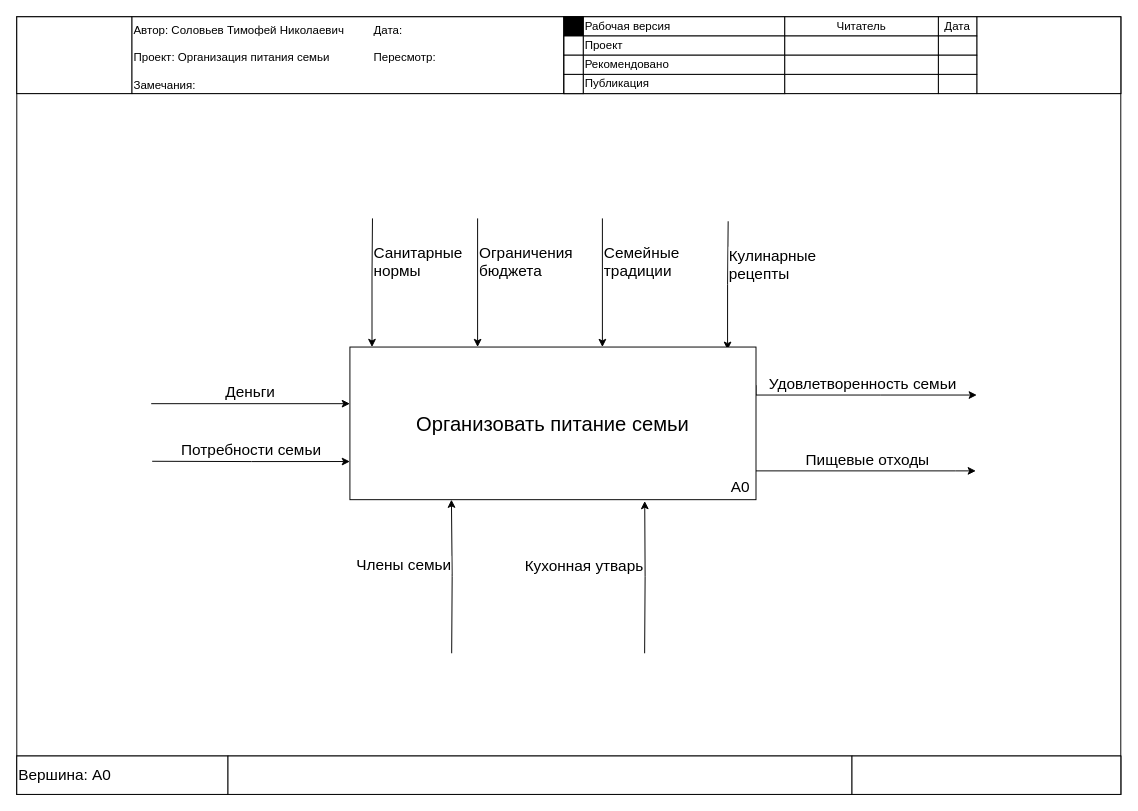
The diagram is 1138 pixels wide and 811 high, and some of its shapes have lost their labels. The shapes that lost their labels are listed below. From the top down, each one's centre as x and y in pixels, then its label:
At pixel 74 55: "Используется в:".
At pixel 1048 55: "Контекст: Top".
At pixel 539 774: "Заголовок: Организовать питание семьи".
At pixel 986 774: "Номер:".
